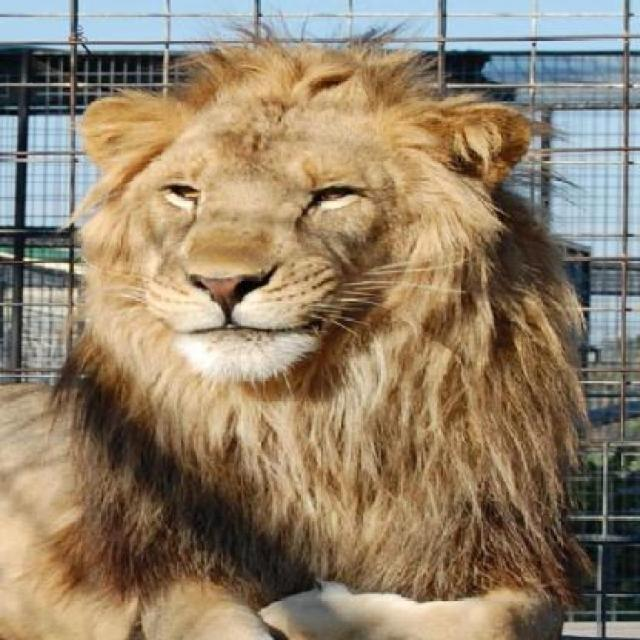Lion: (2, 31, 600, 638)
